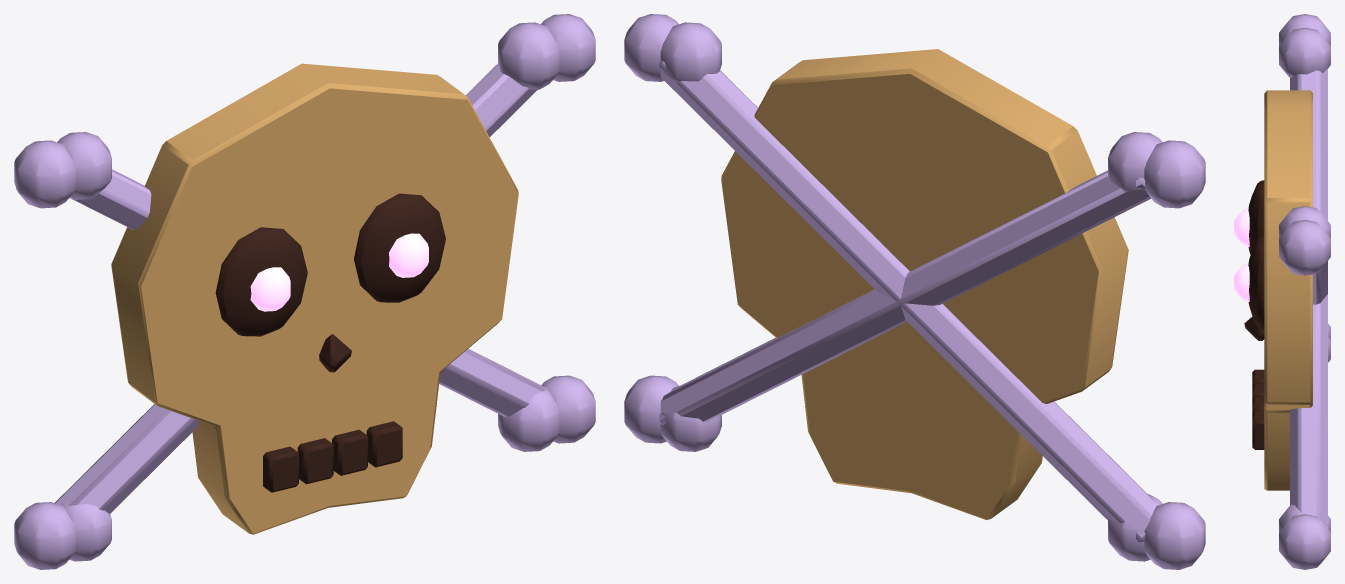
File: Wall_Skull.fbx
3 renders of one model, left to right at view 1: azimuth 30°, elevation 25°; view 2: azimuth 150°, elevation 25°; view 3: azimuth 270°, elevation 25°, orthographic. The views are drawn at different scales.
Parts seen in each view (by area): view 1: Wall_Skull_Mesh; view 2: Wall_Skull_Mesh; view 3: Wall_Skull_Mesh.
Part boxes in pixels (x1=…): Wall_Skull_Mesh: x1=14, y1=14, x2=595, y2=569; Wall_Skull_Mesh: x1=624, y1=14, x2=1205, y2=569; Wall_Skull_Mesh: x1=1234, y1=14, x2=1330, y2=569.
Size of the model in its own units: 0.664 by 0.485 by 0.1195.
